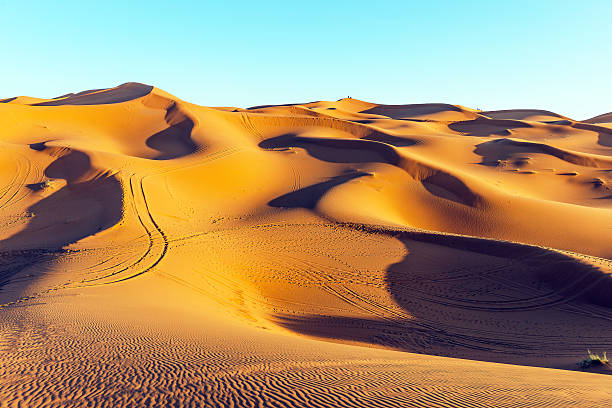vehicle_track: (0, 147, 240, 307), (258, 248, 600, 355), (79, 147, 239, 285), (301, 260, 513, 350), (346, 224, 608, 266), (284, 255, 412, 323), (79, 174, 153, 285), (107, 177, 168, 282), (0, 152, 39, 209), (0, 159, 23, 208), (240, 112, 263, 140)
